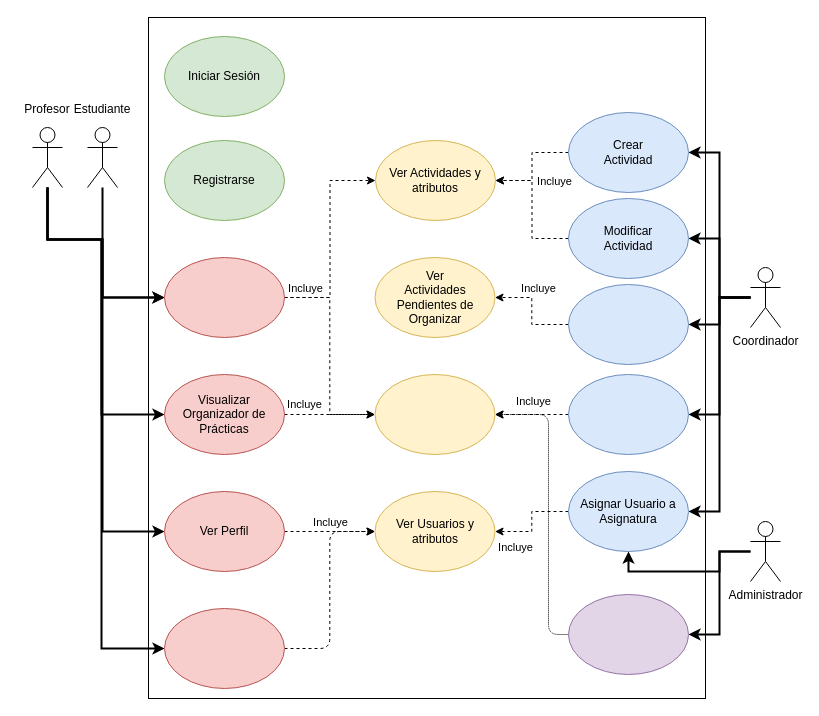
Image size: 819x716. Some labels were removed from this diagram. Here are the shapes that lost their labels. From the top down, the centre of each, then its label:
the point at 224,297: Visualizar Calendario de Prácticas
the point at 628,324: Confirmar Actividad Organizada
the point at 434,414: Ver Asignaturas y atributos
the point at 628,414: Modificar Asignatura
the point at 224,648: Modificar Contraseña
the point at 628,634: Crear Asignatura
